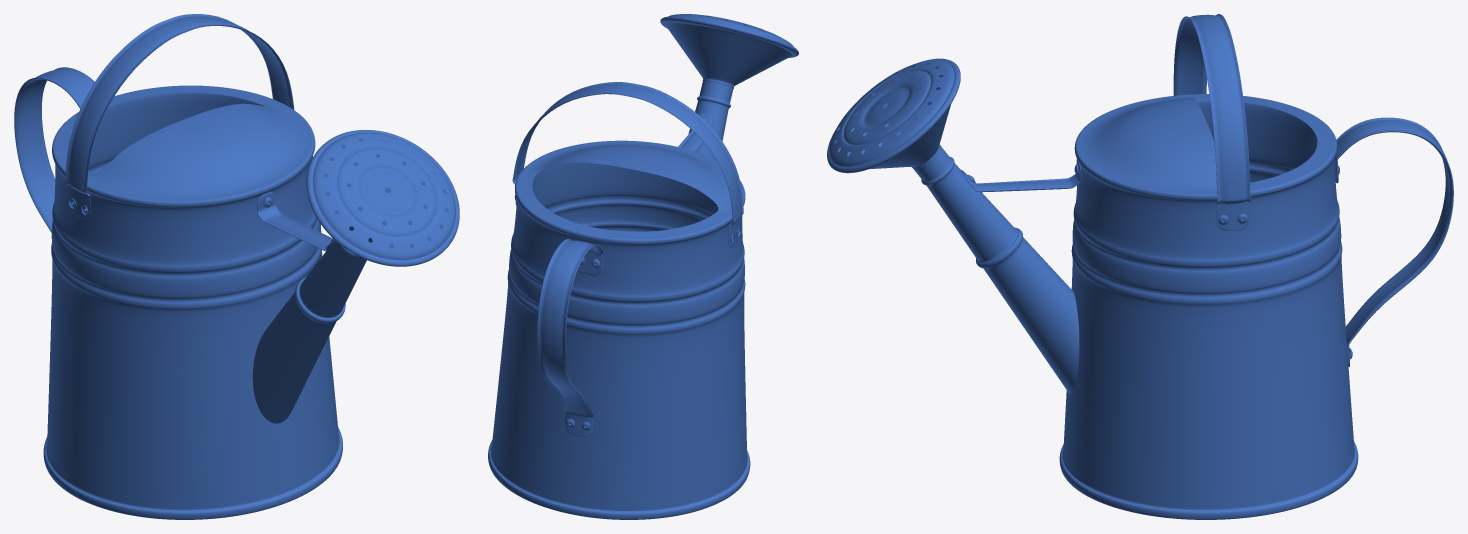
The model's file is wateringcan.fbx.
3 views of the same model, side by side, from view 1: azimuth 30°, elevation 25°; view 2: azimuth 150°, elevation 25°; view 3: azimuth 270°, elevation 25° (orthographic). The views are drawn at different scales.
Parts seen in each view (by area): view 1: water_can_1; view 2: water_can_1; view 3: water_can_1.
Boxes of the visible parts, x1,y1,x2,y2 form: water_can_1: (14, 14, 459, 519); water_can_1: (488, 14, 798, 519); water_can_1: (827, 14, 1453, 519).
Size of the model in its own units: 2555 by 4110 by 5366.
